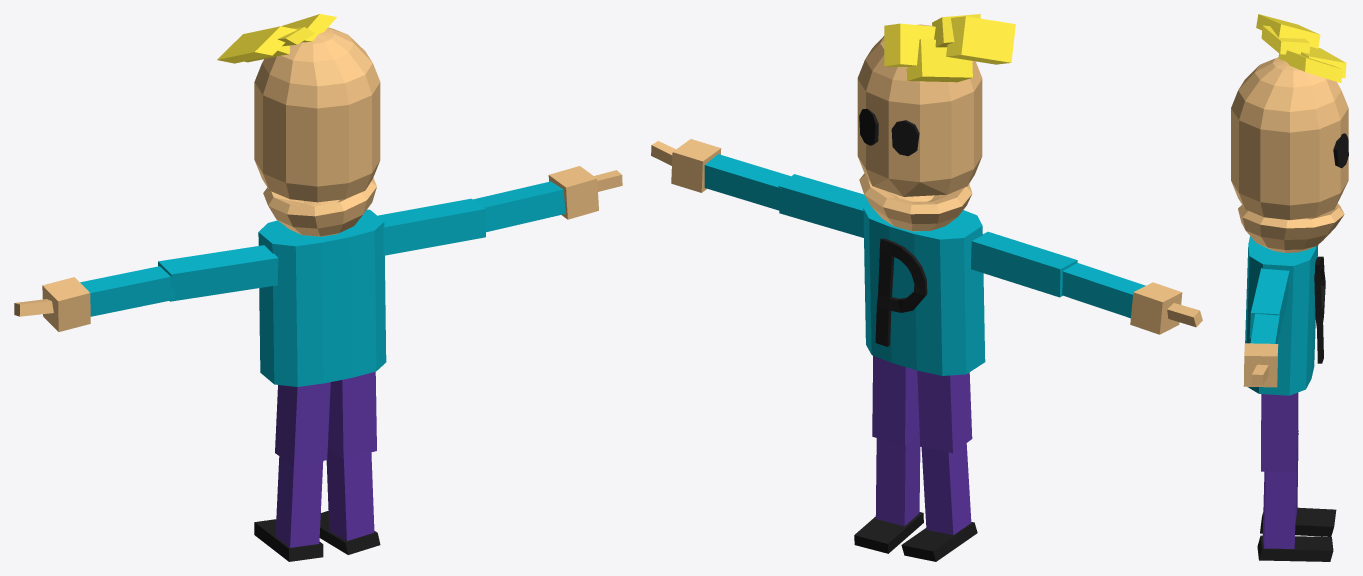
File: toy.fbx
3 renders of one model, left to right at view 1: azimuth 30°, elevation 25°; view 2: azimuth 150°, elevation 25°; view 3: azimuth 270°, elevation 25°, orthographic. The views are drawn at different scales.
Parts seen in each view (by area): view 1: mesh_986861826, mesh_1585139189, group_2006524863, group_1172047294, mesh_578316603, mesh_15174993, mesh_361227560, mesh_253571594, mesh_358585349, group_148336972, mesh_569242482, mesh_381978179; view 2: mesh_986861826, mesh_1585139189, group_2006524863, group_1172047294, group_148336972, mesh_578316603, mesh_15174993, mesh_361227560, mesh_358585349, mesh_334180034, mesh_253571594, mesh_569242482 (+2 smaller); view 3: mesh_1585139189, group_1172047294, mesh_986861826, group_148336972, mesh_361227560, mesh_15174993, group_2006524863, mesh_381978179, mesh_334180034, mesh_358585349, group_111512759, mesh_823653489.
Part boxes in pixels (x1=…): mesh_986861826: x1=258, y1=209, x2=386, y2=386; mesh_1585139189: x1=254, y1=27, x2=380, y2=202; group_2006524863: x1=254, y1=382, x2=330, y2=561; group_1172047294: x1=319, y1=371, x2=380, y2=554; mesh_578316603: x1=158, y1=245, x2=278, y2=301; mesh_15174993: x1=377, y1=198, x2=485, y2=255; mesh_361227560: x1=263, y1=178, x2=376, y2=236; mesh_253571594: x1=80, y1=266, x2=174, y2=316; mesh_358585349: x1=473, y1=181, x2=565, y2=232; group_148336972: x1=217, y1=14, x2=336, y2=63; mesh_569242482: x1=42, y1=277, x2=90, y2=331; mesh_381978179: x1=548, y1=166, x2=598, y2=219; mesh_986861826: x1=863, y1=204, x2=985, y2=375; mesh_1585139189: x1=857, y1=24, x2=982, y2=196; group_2006524863: x1=901, y1=370, x2=977, y2=561; group_1172047294: x1=854, y1=355, x2=923, y2=553; group_148336972: x1=884, y1=14, x2=1015, y2=82; mesh_578316603: x1=971, y1=231, x2=1077, y2=297; mesh_15174993: x1=778, y1=174, x2=869, y2=237; mesh_361227560: x1=859, y1=173, x2=972, y2=231; mesh_358585349: x1=704, y1=154, x2=790, y2=210; mesh_334180034: x1=875, y1=238, x2=927, y2=346; mesh_253571594: x1=1062, y1=263, x2=1145, y2=318; mesh_569242482: x1=1130, y1=282, x2=1182, y2=334; mesh_1585139189: x1=1231, y1=57, x2=1348, y2=220; group_1172047294: x1=1257, y1=393, x2=1333, y2=561; mesh_986861826: x1=1245, y1=236, x2=1318, y2=395; group_148336972: x1=1256, y1=14, x2=1346, y2=82; mesh_361227560: x1=1238, y1=203, x2=1344, y2=252; mesh_15174993: x1=1249, y1=268, x2=1289, y2=339; group_2006524863: x1=1260, y1=392, x2=1336, y2=536; mesh_381978179: x1=1243, y1=343, x2=1278, y2=387; mesh_334180034: x1=1314, y1=256, x2=1325, y2=363; mesh_358585349: x1=1250, y1=313, x2=1279, y2=343; group_111512759: x1=1333, y1=133, x2=1348, y2=167; mesh_823653489: x1=1251, y1=364, x2=1268, y2=385.
Size of the model in its own units: 52.08 by 46.23 by 9.87.
